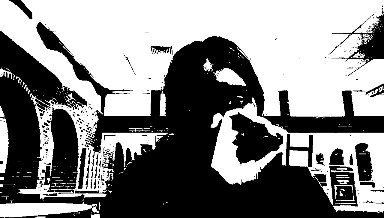H: (283, 130, 316, 169)
